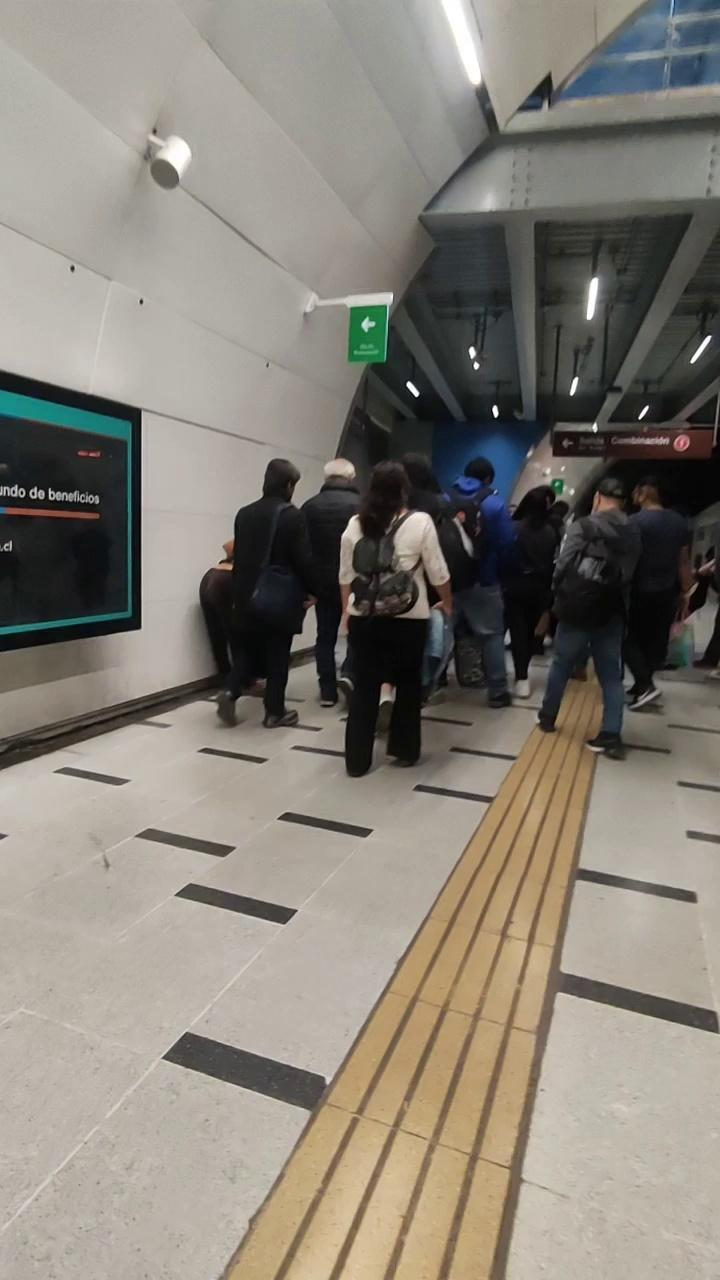left arrow: (560, 436, 574, 451)
